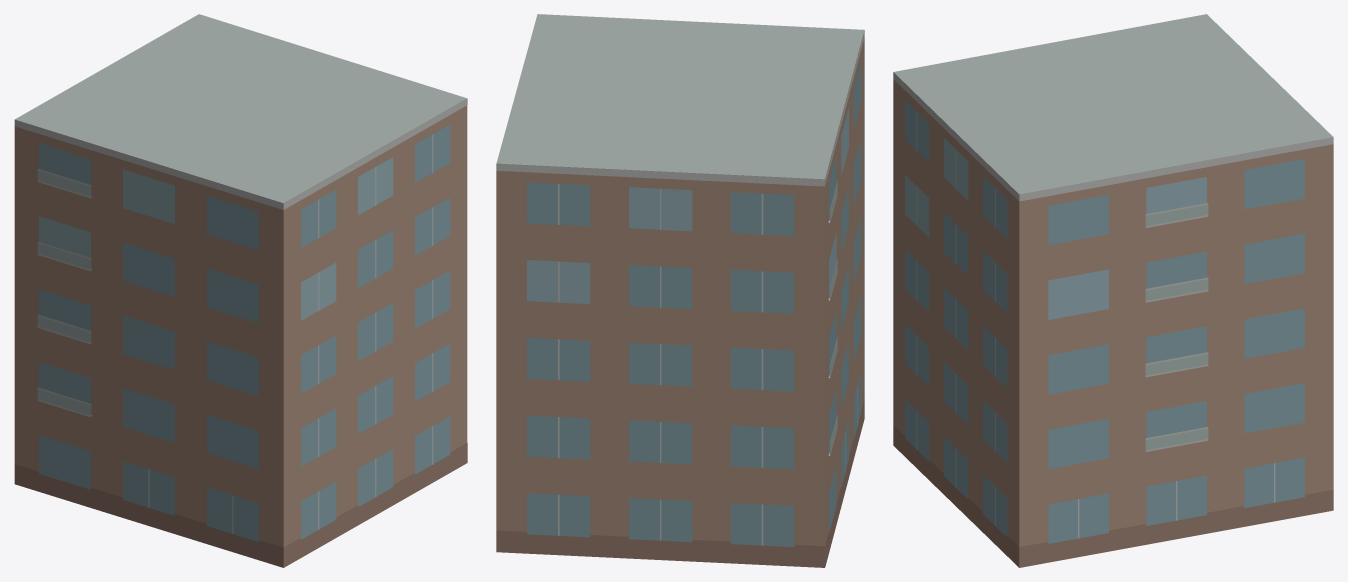
The model's file is survey-upis-32881084.glb.
The picture shows the model from 3 angles, left to right: view 1: azimuth 30°, elevation 25°; view 2: azimuth 150°, elevation 25°; view 3: azimuth 270°, elevation 25°; orthographic projection. The views are drawn at different scales.
Visible parts, largest first — view 1: survey-upis-32881084.tmp; view 2: survey-upis-32881084.tmp; view 3: survey-upis-32881084.tmp.
Boxes of the visible parts, bbox=[...] form: survey-upis-32881084.tmp: bbox=[14, 14, 467, 567]; survey-upis-32881084.tmp: bbox=[496, 14, 864, 567]; survey-upis-32881084.tmp: bbox=[893, 14, 1333, 567].
Size of the model in its own units: 13.59 by 13.1 by 14.01.
